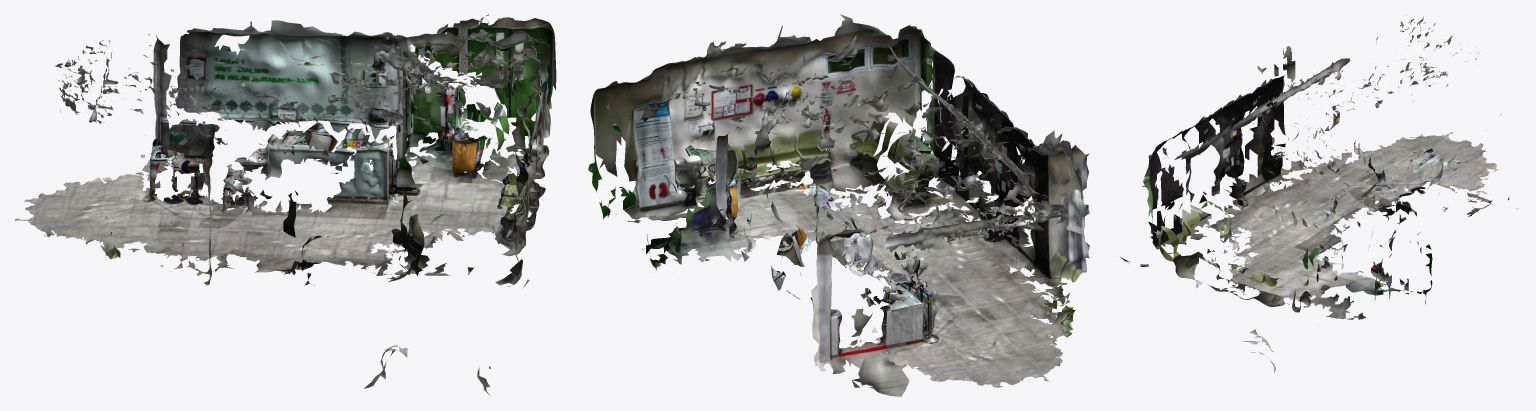
Rendered from 144557-1D-tex.glb.
The picture shows the model from 3 angles, left to right: view 1: azimuth 30°, elevation 25°; view 2: azimuth 150°, elevation 25°; view 3: azimuth 270°, elevation 25°; orthographic projection. The views are drawn at different scales.
Visible parts, largest first — view 1: Node; view 2: Node; view 3: Node.
Part boxes in pixels (<box>): Node: <box>14,14,556,395</box>; Node: <box>588,14,1089,396</box>; Node: <box>1120,15,1518,372</box>.
Size of the model in its own units: 10.93 by 6.69 by 9.2.
Materials: 21 (21 with a texture image).
